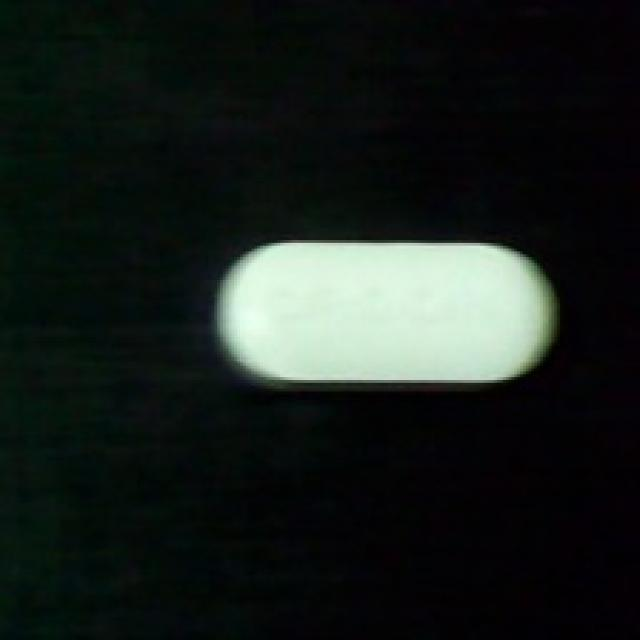no-defect: (211, 226, 563, 394)
